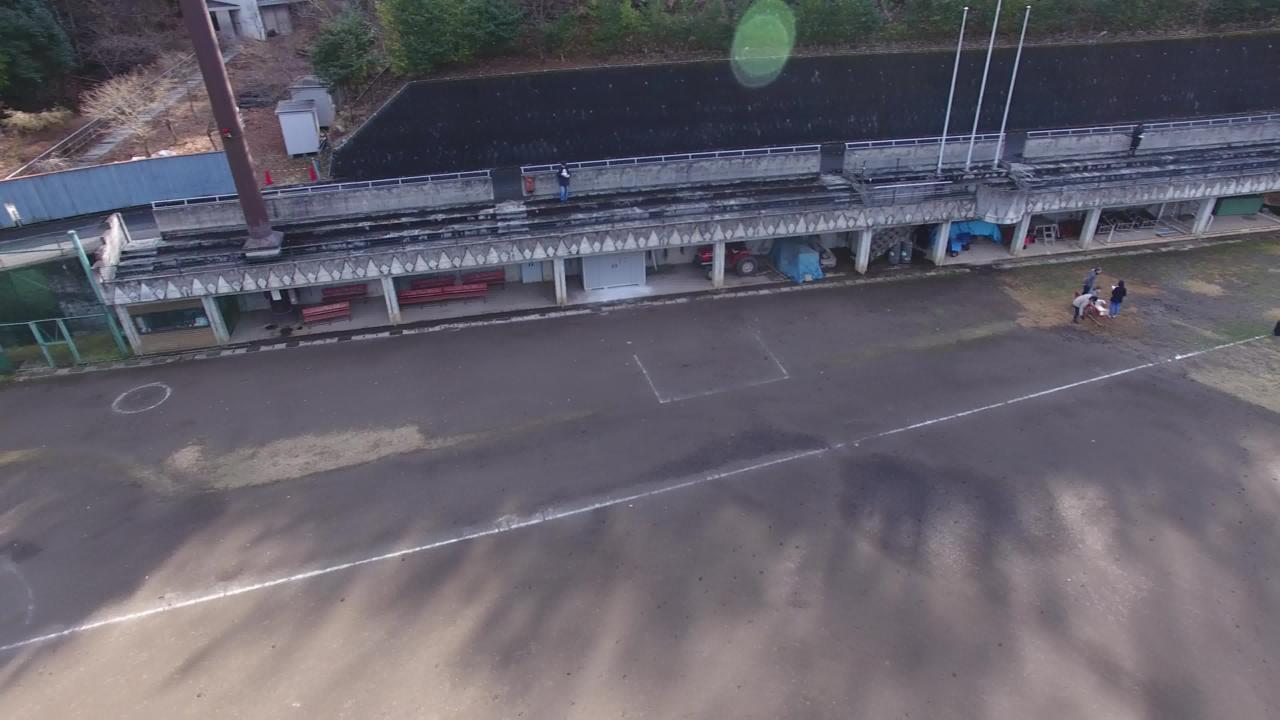person: (547, 143, 581, 208), (1124, 105, 1148, 161), (1065, 291, 1097, 326), (1107, 276, 1126, 322), (1084, 259, 1110, 290)
